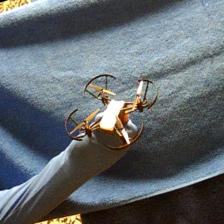drone: (61, 72, 158, 151)
